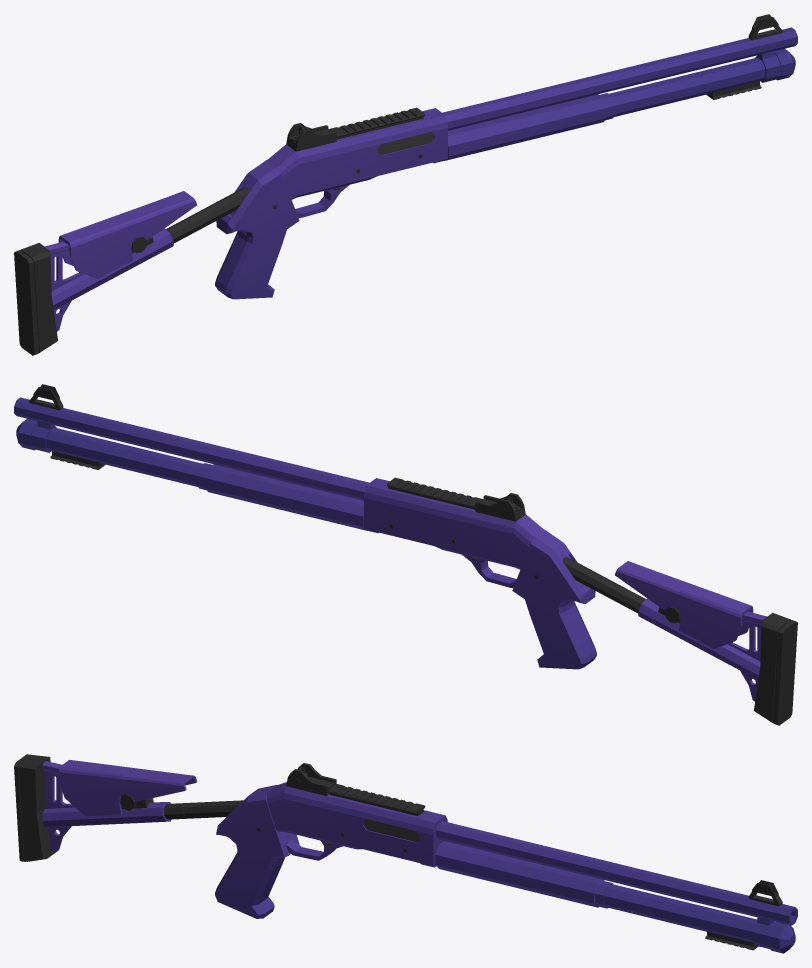
File: Shotgun2_06.fbx
3 renders of one model, top to bottom at view 1: azimuth 30°, elevation 25°; view 2: azimuth 150°, elevation 25°; view 3: azimuth 330°, elevation 25°, orthographic.
Parts seen in each view (by area): view 1: Shotgun2_06; view 2: Shotgun2_06; view 3: Shotgun2_06.
Boxes of the visible parts, <box> form: Shotgun2_06: <box>14,14,797,355</box>; Shotgun2_06: <box>14,384,797,725</box>; Shotgun2_06: <box>14,754,797,953</box>.
Bounding box in the file's own units: 1.21 × 0.235 × 0.0439.
